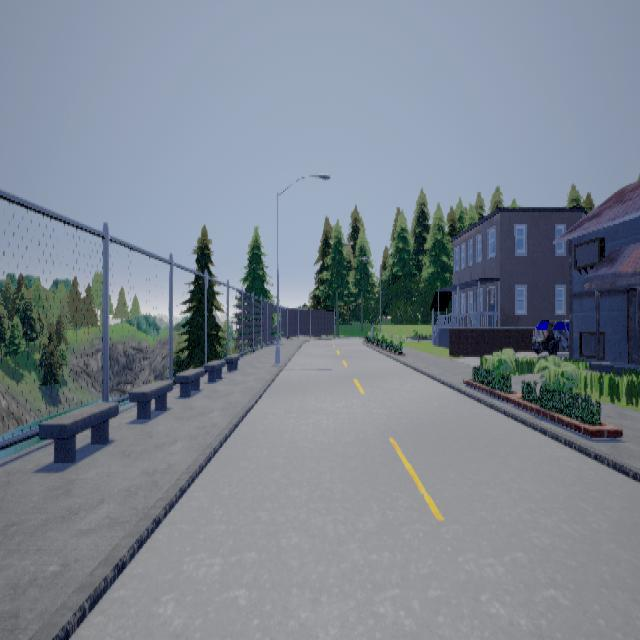vehicle: (533, 318, 570, 354)
